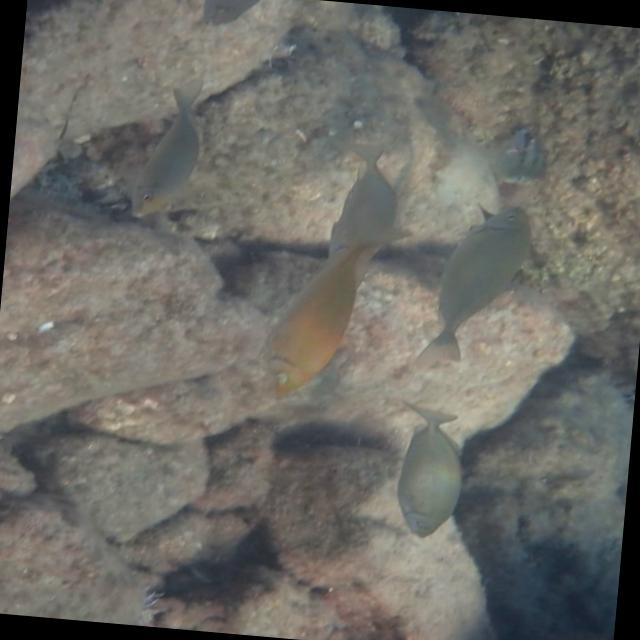Sokar Baligi: (388, 192, 544, 388), (368, 396, 483, 552)
